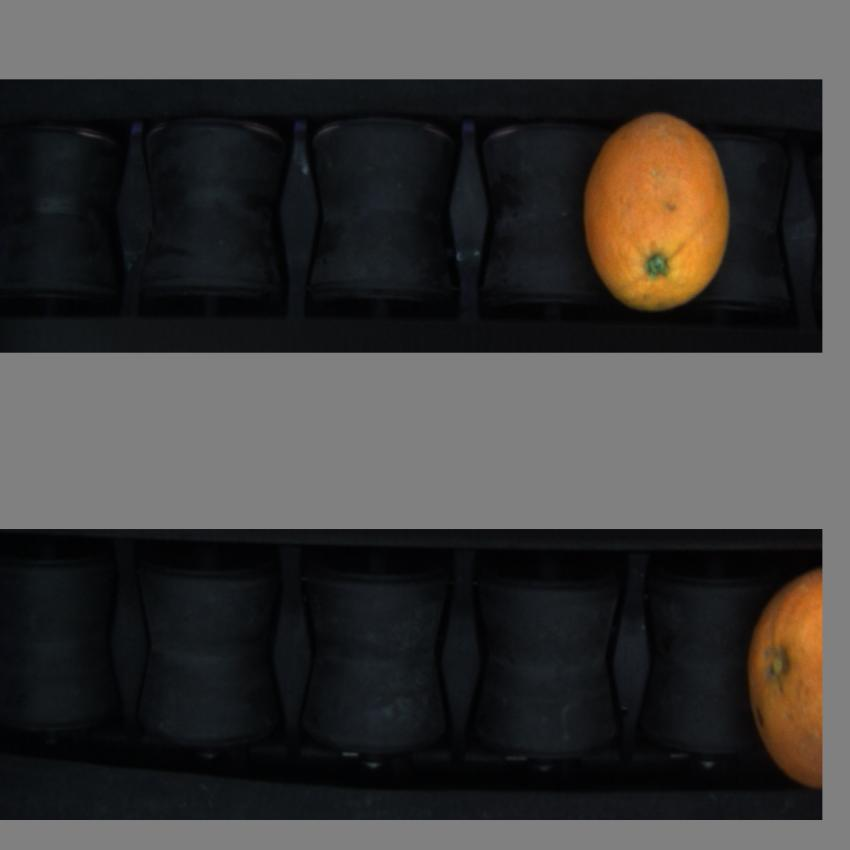Buen estado: (573, 101, 738, 325)
Mal estado: (744, 558, 824, 807)
